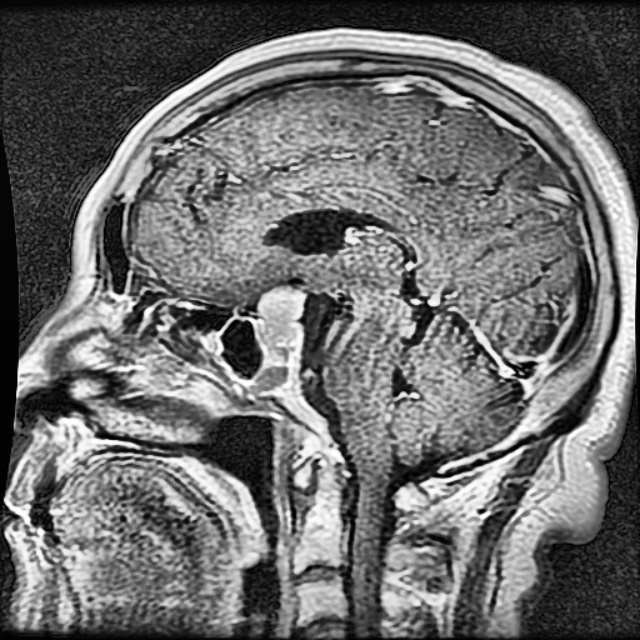Pituitary: (260, 287, 302, 347)
